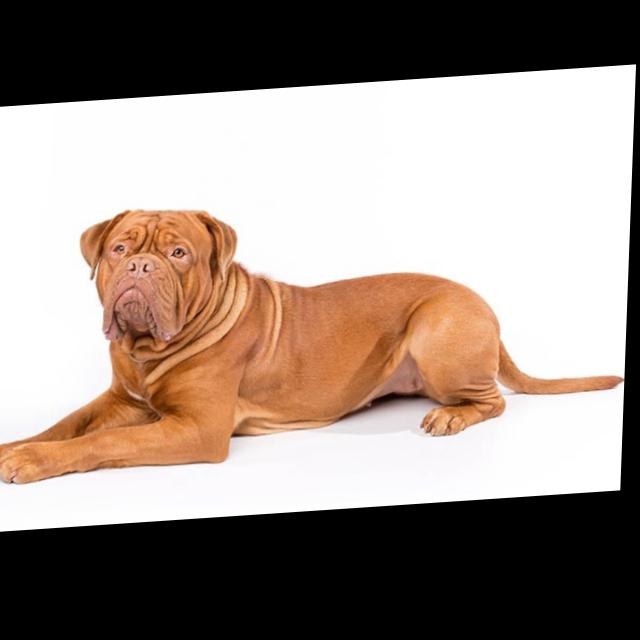dogue_de_bordeaux: (1, 184, 635, 488)
